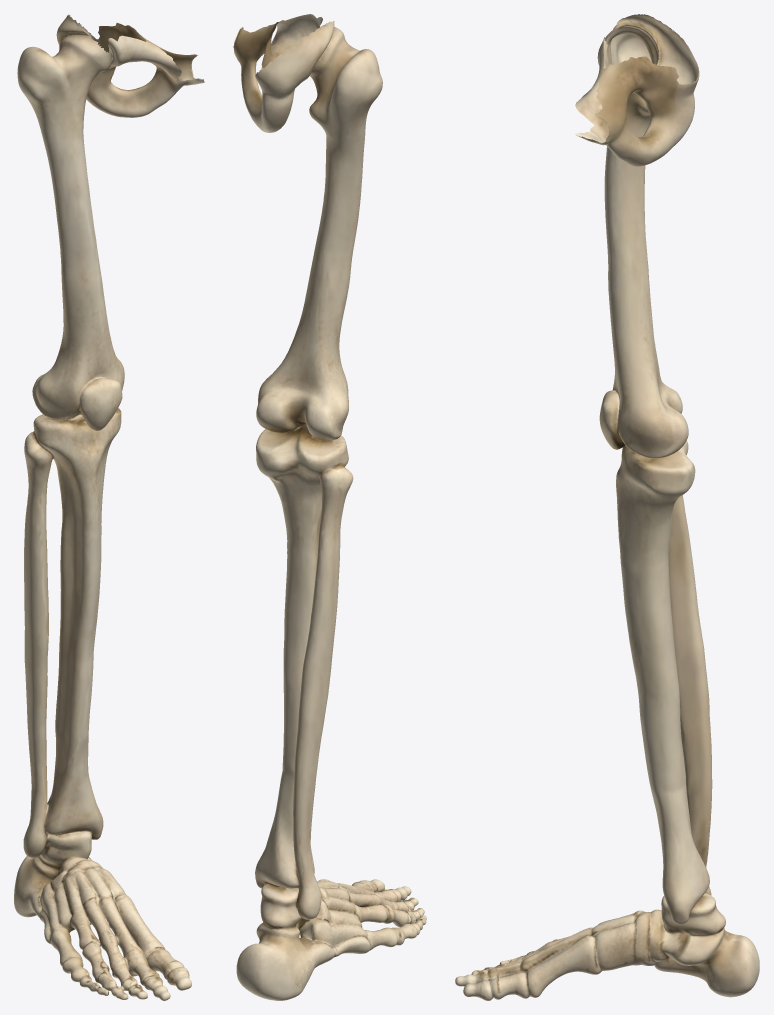
Rendered from PiernaDer.obj.
The picture shows the model from 3 angles, left to right: view 1: azimuth 30°, elevation 25°; view 2: azimuth 150°, elevation 25°; view 3: azimuth 270°, elevation 25°; orthographic projection. The views are drawn at different scales.
Parts seen in each view (by area): view 1: PiernaDer; view 2: PiernaDer; view 3: PiernaDer.
Part boxes in pixels (x1,y1,x2,y2): PiernaDer: (14,14,204,1000); PiernaDer: (233,14,426,1000); PiernaDer: (455,14,759,1000).
Bounding box in the file's own units: 0.1667 × 0.943 × 0.2672.
Materials: 1 (1 with a texture image).
